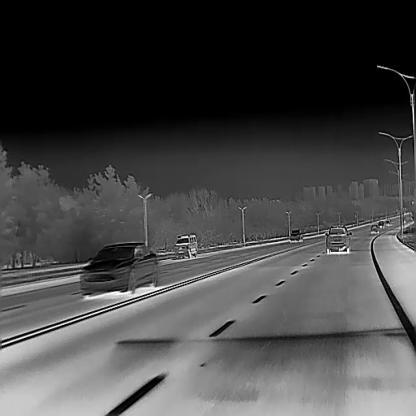car: (79, 241, 159, 294), (325, 224, 353, 252), (174, 232, 197, 258), (290, 227, 303, 241), (371, 224, 378, 232), (379, 220, 384, 225), (386, 220, 389, 224)
